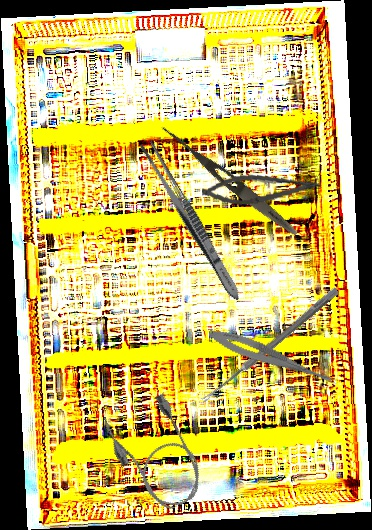Cannula: (97, 387, 214, 521)
Dressing Forceps: (135, 136, 247, 305), (155, 121, 302, 240)
Micro Scissor: (205, 324, 342, 390), (200, 165, 323, 211)
Surgical Spoon: (200, 286, 340, 405)
